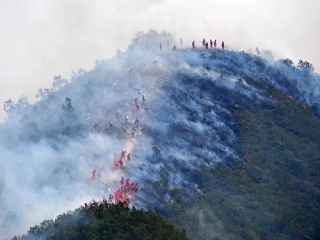smoke: (14, 32, 308, 210)
